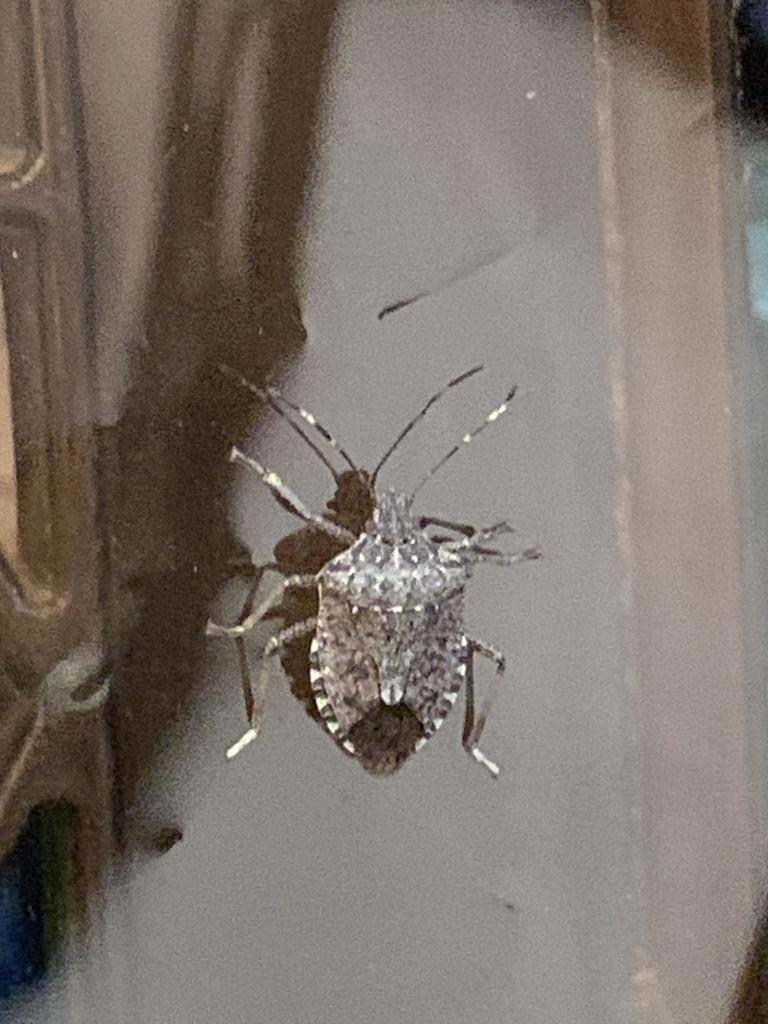stink_bugs: (141, 348, 607, 820)
